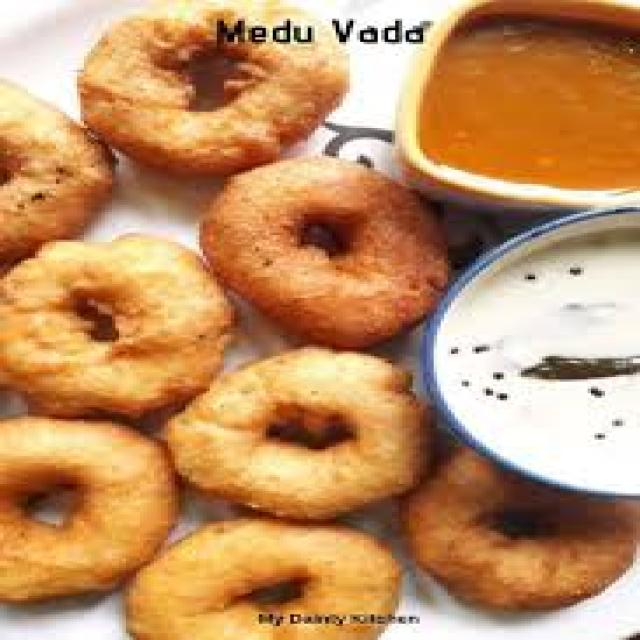MEDU VADA: (76, 0, 350, 174), (193, 155, 453, 329), (393, 442, 637, 620), (166, 347, 424, 510), (0, 230, 222, 417), (126, 514, 424, 638), (0, 416, 183, 598), (0, 71, 111, 262)
